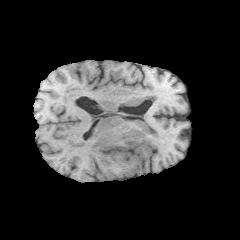glioma: (81, 122, 146, 166)
